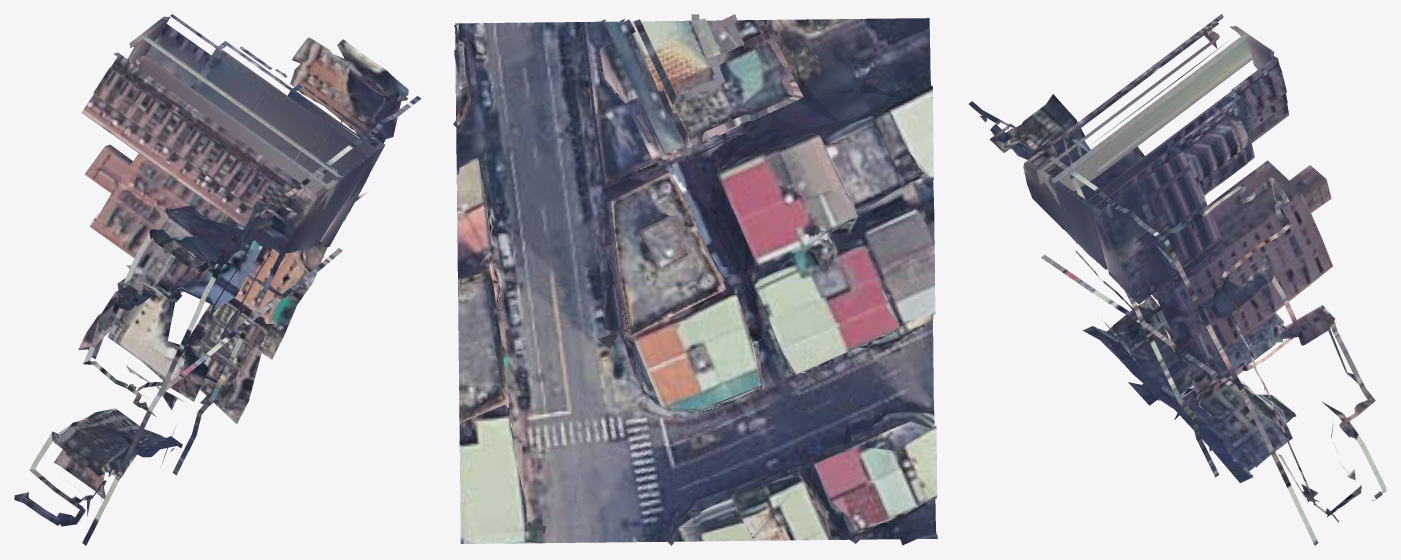
3 views of the same model, side by side, from view 1: azimuth 30°, elevation 25°; view 2: azimuth 150°, elevation 25°; view 3: azimuth 270°, elevation 25° (orthographic). The views are drawn at different scales.
Bounding box in the file's own units: 83.73 × 88.08 × 76.38.
2 materials, 2 textured.
